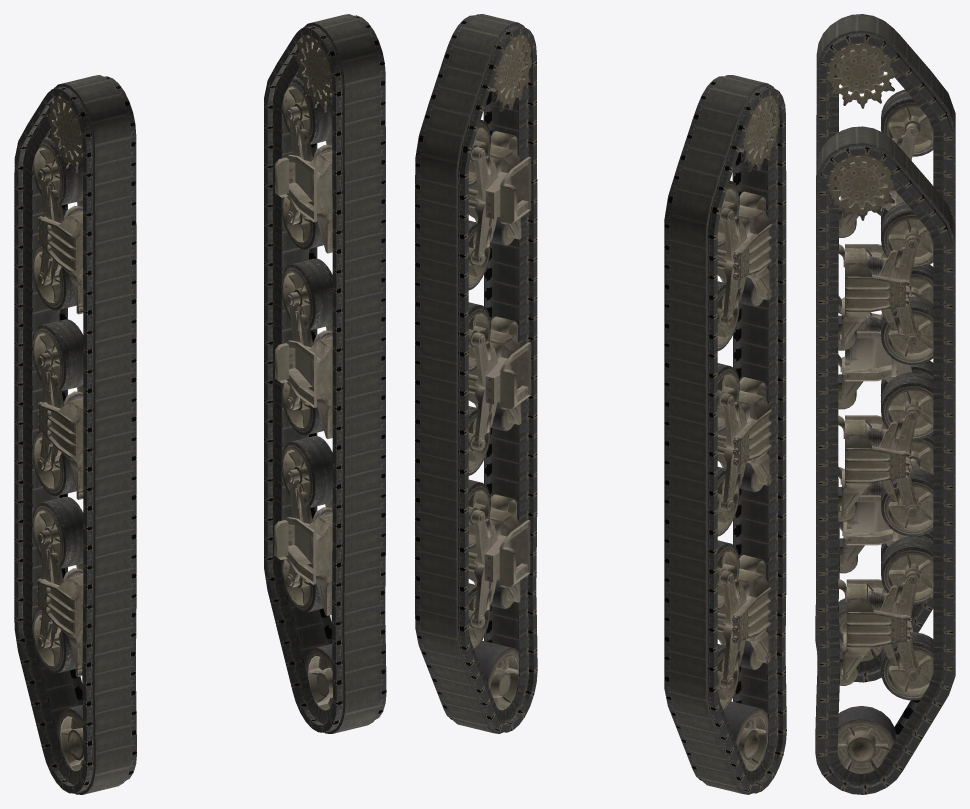
File: Chassis.glb
The picture shows the model from 3 angles, left to right: view 1: azimuth 30°, elevation 25°; view 2: azimuth 150°, elevation 25°; view 3: azimuth 270°, elevation 25°; orthographic projection. The views are drawn at different scales.
Parts seen in each view (by area): view 1: set_1_group_0, set_0_group_0, set_2_group_0, set_3_group_0; view 2: set_1_group_0, set_0_group_0, set_2_group_0, set_3_group_0; view 3: set_2_group_0, set_0_group_0, set_3_group_0, set_1_group_0.
Part boxes in pixels (left/top/right/bottom): set_1_group_0: left=14, top=75, right=136, bottom=794; set_0_group_0: left=264, top=14, right=386, bottom=733; set_2_group_0: left=274, top=26, right=367, bottom=710; set_3_group_0: left=33, top=87, right=117, bottom=771; set_1_group_0: left=664, top=75, right=786, bottom=794; set_0_group_0: left=415, top=14, right=537, bottom=733; set_2_group_0: left=468, top=35, right=531, bottom=710; set_3_group_0: left=717, top=95, right=779, bottom=770; set_2_group_0: left=826, top=149, right=933, bottom=773; set_0_group_0: left=815, top=126, right=955, bottom=794; set_3_group_0: left=826, top=37, right=933, bottom=661; set_1_group_0: left=815, top=14, right=955, bottom=682.
Bounding box in the file's own units: 2.55 × 5.69 × 1.11.
Materials: 4 (4 with a texture image).
